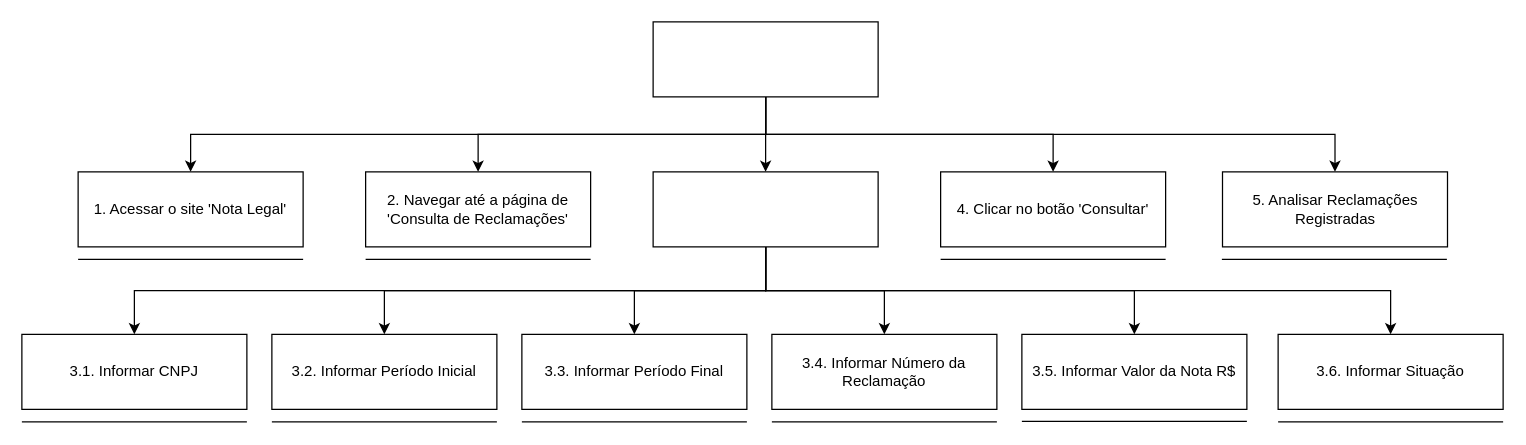
The diagram is 1526 pixels wide and 445 high, and some of its shapes have lost their labels. The shapes that lost their labels are listed below. From the top down, each one's box as (x1, y1, x2, y2) in pixels, then its label:
(652, 21, 878, 97): 0. Consultar reclamação 1>2>3>4>5
(652, 171, 878, 247): 3. Inserir informações de Consulta 1+2+3+4+5+6
